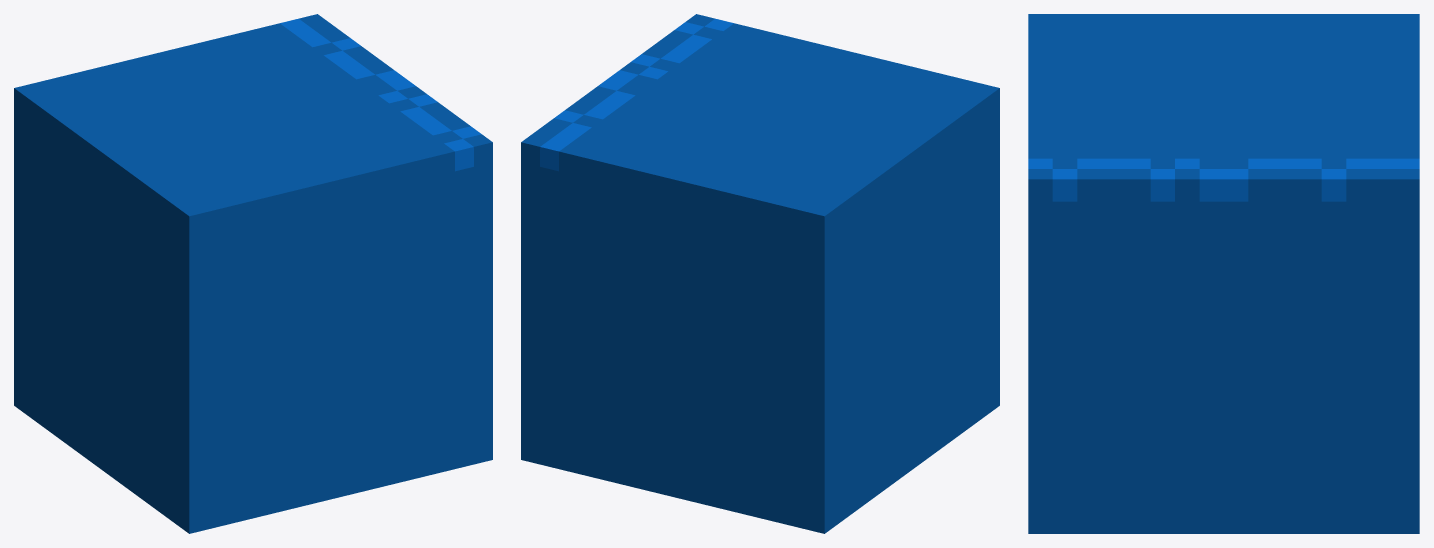
Rendered from WinterGrass-5.obj.
The picture shows the model from 3 angles, left to right: view 1: azimuth 30°, elevation 25°; view 2: azimuth 150°, elevation 25°; view 3: azimuth 270°, elevation 25°; orthographic projection. The views are drawn at different scales.
Size of the model in its own units: 1.6 by 1.6 by 1.6.
1 material, 1 textured.
